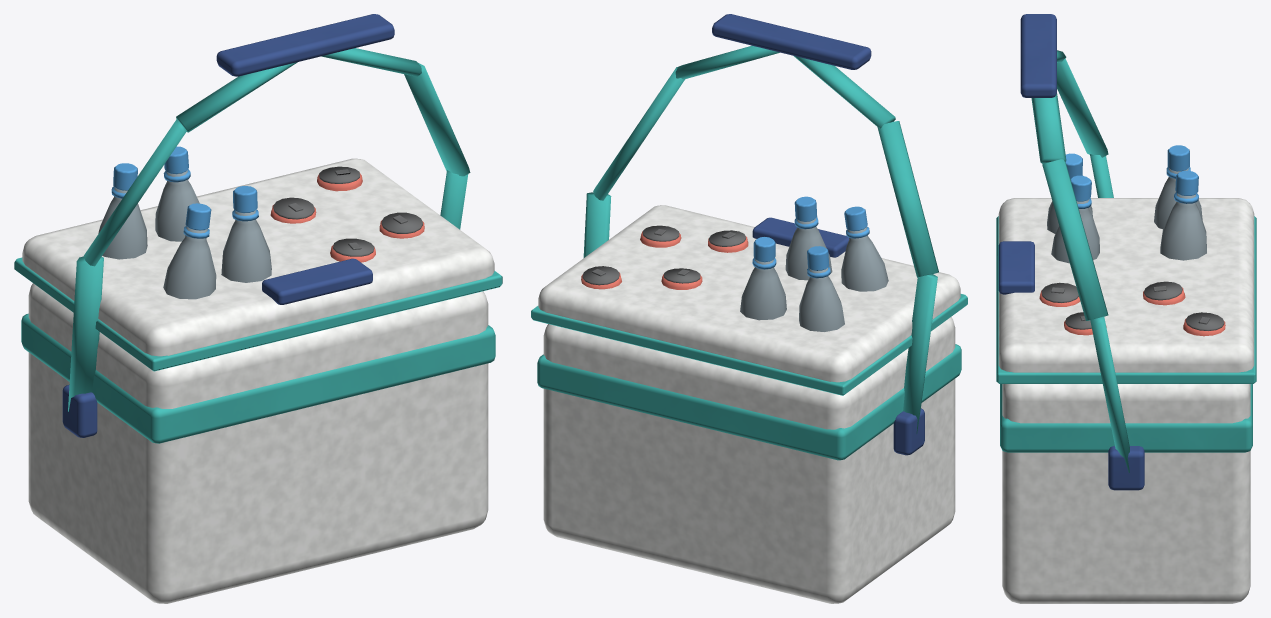
Rendered from Rig_Cooler.fbx.
The picture shows the model from 3 angles, left to right: view 1: azimuth 30°, elevation 25°; view 2: azimuth 150°, elevation 25°; view 3: azimuth 270°, elevation 25°; orthographic projection. The views are drawn at different scales.
Parts seen in each view (by area): view 1: Vendor_Cooler__Body, Vendor_Cooler__Lid; view 2: Vendor_Cooler__Body, Vendor_Cooler__Lid; view 3: Vendor_Cooler__Body, Vendor_Cooler__Lid.
Part boxes in pixels (left/top/right/bottom): Vendor_Cooler__Body: left=21, top=14, right=495, bottom=603; Vendor_Cooler__Lid: left=14, top=158, right=502, bottom=371; Vendor_Cooler__Body: left=537, top=14, right=961, bottom=603; Vendor_Cooler__Lid: left=531, top=205, right=967, bottom=395; Vendor_Cooler__Body: left=1000, top=14, right=1252, bottom=603; Vendor_Cooler__Lid: left=996, top=198, right=1256, bottom=383.
Bounding box in the file's own units: 0.5749 × 0.731 × 0.356.
